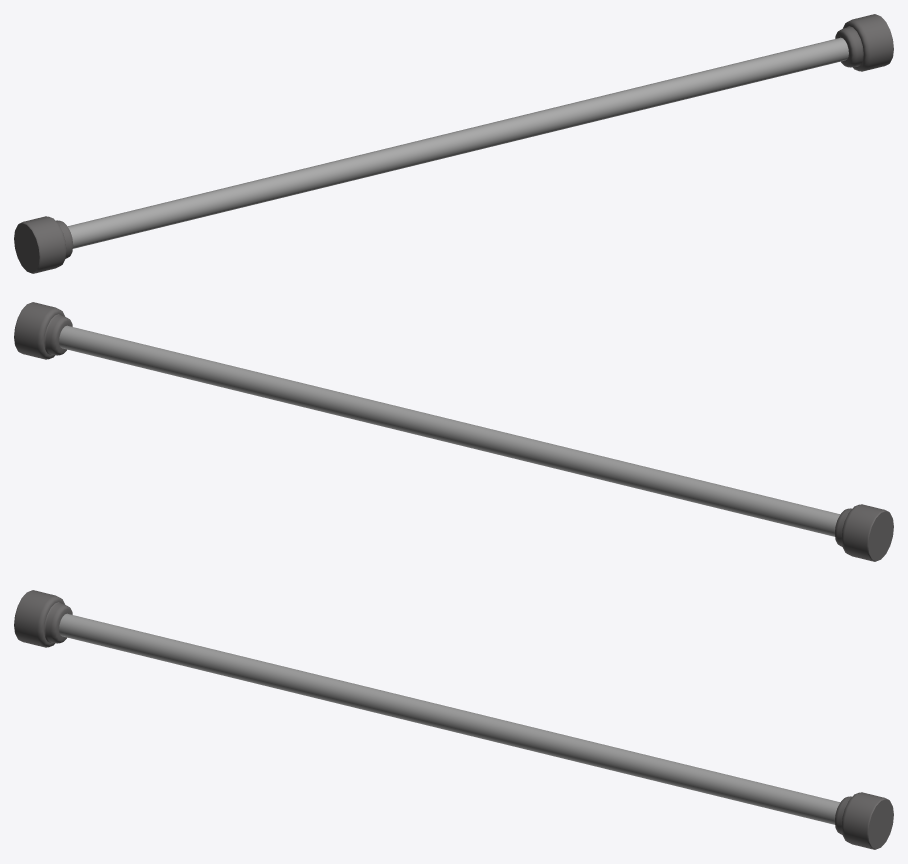
Rendered from Shelf_6.glb.
The picture shows the model from 3 angles, top to bottom: view 1: azimuth 30°, elevation 25°; view 2: azimuth 150°, elevation 25°; view 3: azimuth 330°, elevation 25°; orthographic projection.
Parts seen in each view (by area): view 1: Shelf_6; view 2: Shelf_6; view 3: Shelf_6.
Boxes of the visible parts, box(x1,y1,x2,y2) form: Shelf_6: box(14, 14, 893, 273); Shelf_6: box(14, 302, 893, 561); Shelf_6: box(14, 590, 893, 849).
Bounding box in the file's own units: 2.07 × 0.1121 × 0.1121.
1 material, 1 textured.
